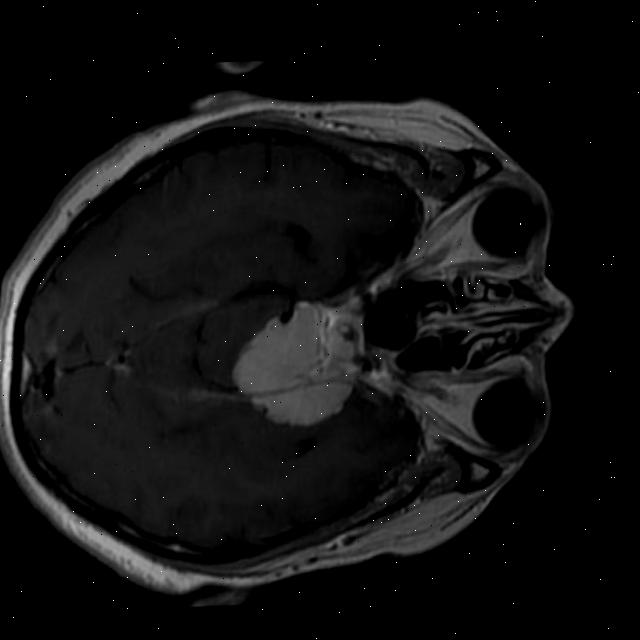Meningioma: (225, 302, 329, 397), (247, 381, 355, 428)
